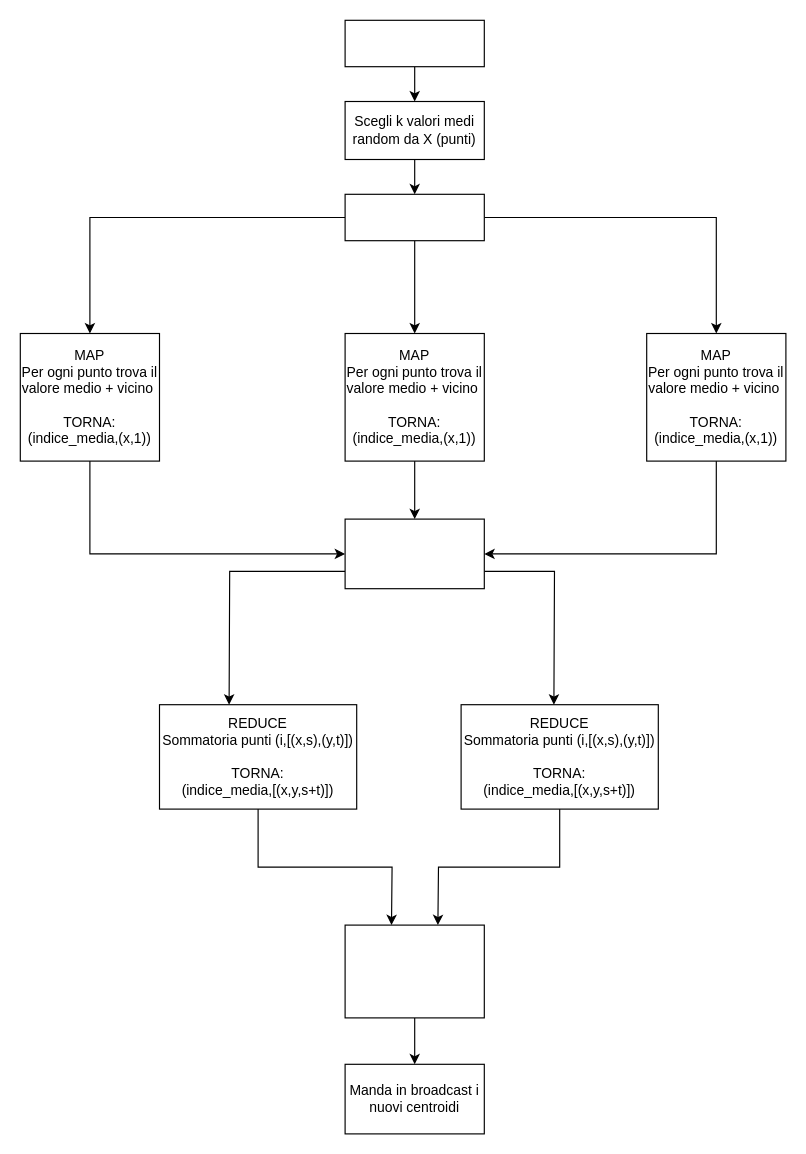
This 806x1154 diagram has some shape labels left out. Each missing label, with the centre of its shape:
CALCOLA NUOVI CENTROIDI somma x / n punti somma y / n punti: (414,971)
Scegli K: (414,43)
Shuffling (basato su k): (414,553)
Splitting: (414,217)
